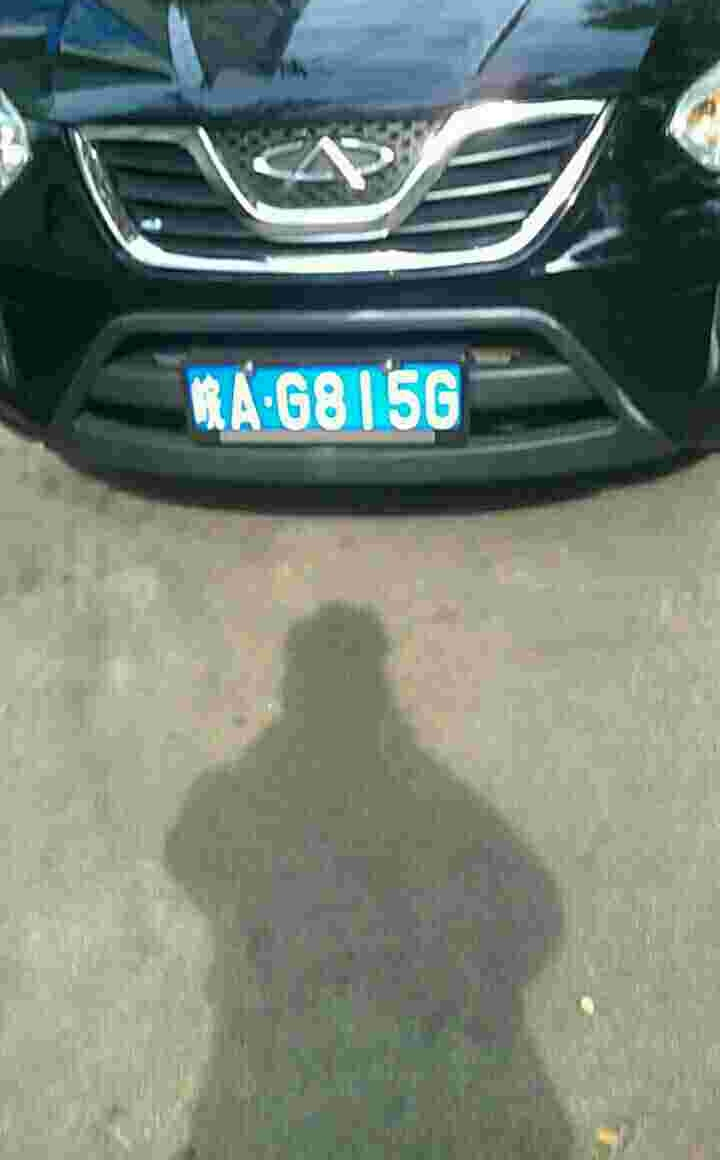license_plate: (197, 358, 464, 436)
